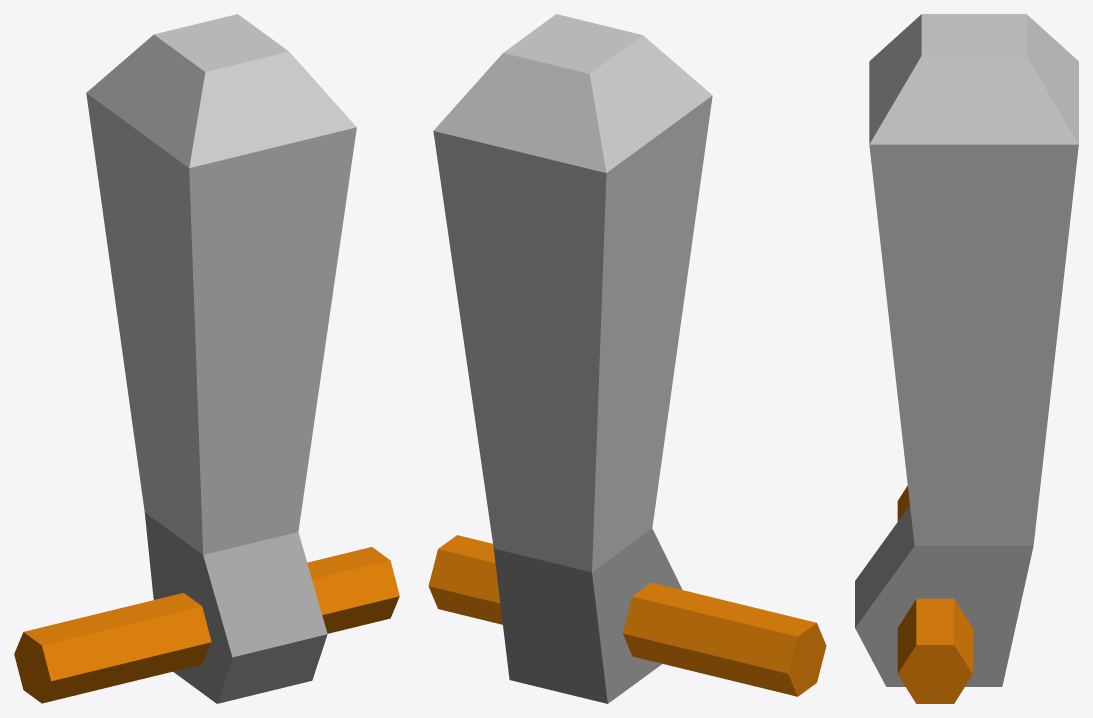
The model's file is BoomerMutant-LowerArm.fbx.
3 renders of one model, left to right at view 1: azimuth 30°, elevation 25°; view 2: azimuth 150°, elevation 25°; view 3: azimuth 270°, elevation 25°, orthographic. The views are drawn at different scales.
Visible parts, largest first — view 1: BoomerLowerArm; view 2: BoomerLowerArm; view 3: BoomerLowerArm.
Part boxes in pixels (x1,y1,x2,y2): BoomerLowerArm: (14, 14, 399, 703); BoomerLowerArm: (428, 14, 826, 703); BoomerLowerArm: (855, 14, 1078, 703).
Size of the model in its own units: 0.3261 by 0.552 by 0.1781.
